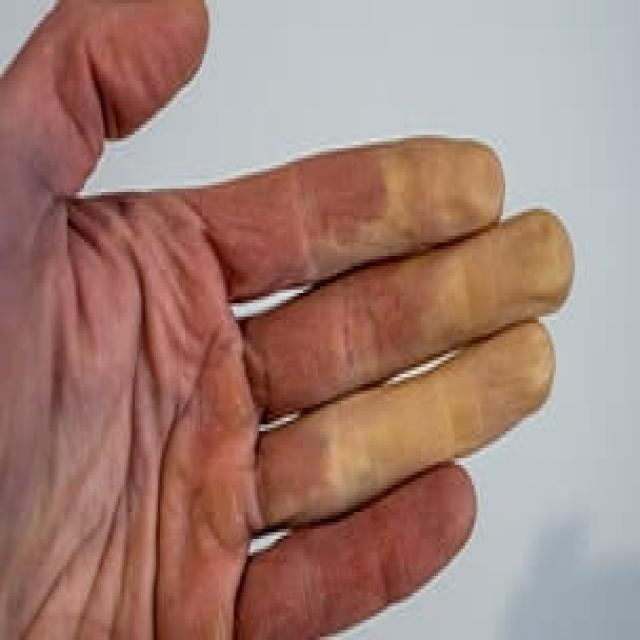raynauds: (320, 94, 579, 494)
